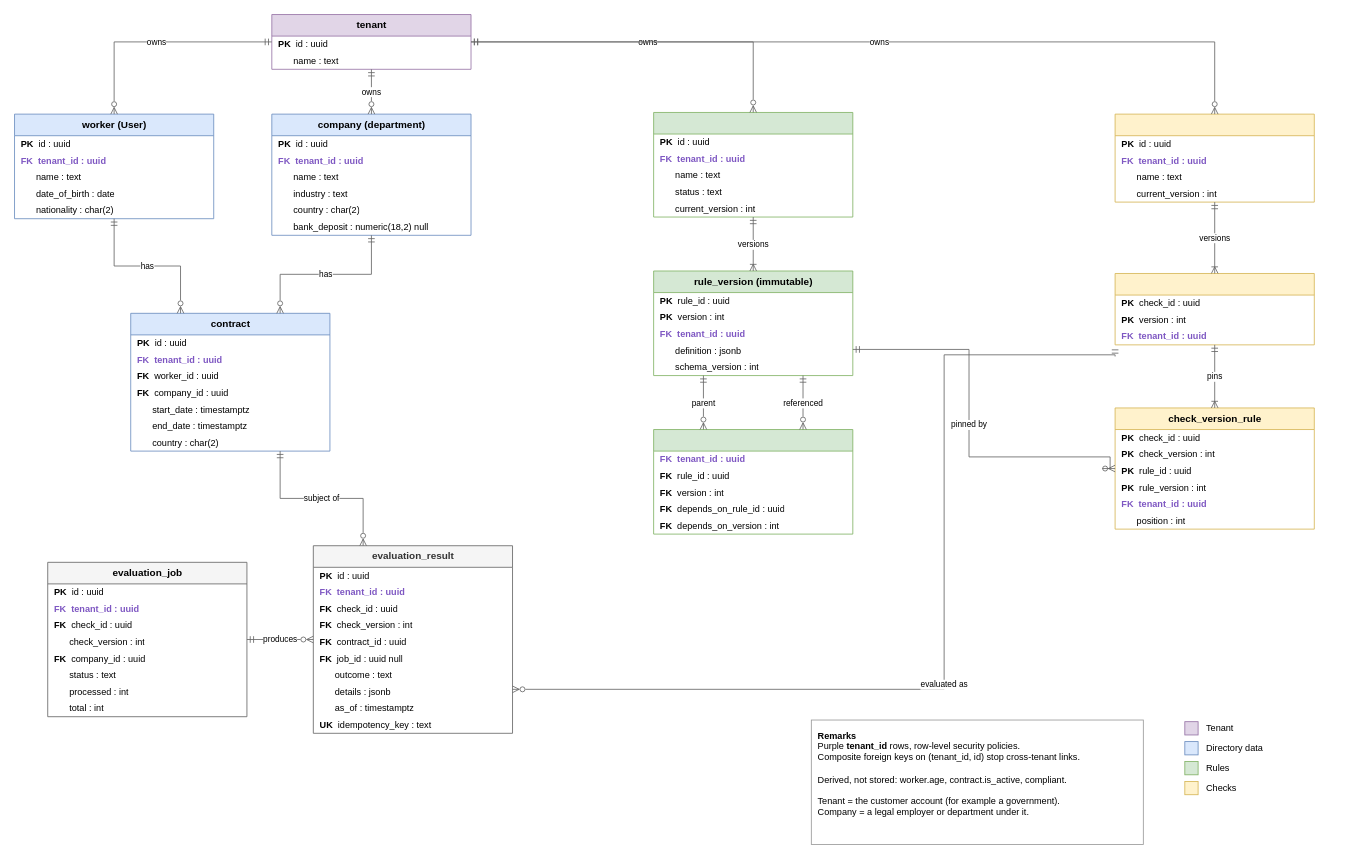
The diagram is 1352 pixels wide and 859 high, and some of its shapes have lost their labels. Each missing label, with the box of its shape:
check_version (immutable): (1114, 273, 1314, 345)
compliance_check: (1114, 113, 1314, 202)
rule: (653, 112, 853, 217)
rule_dependency: (653, 429, 853, 534)
